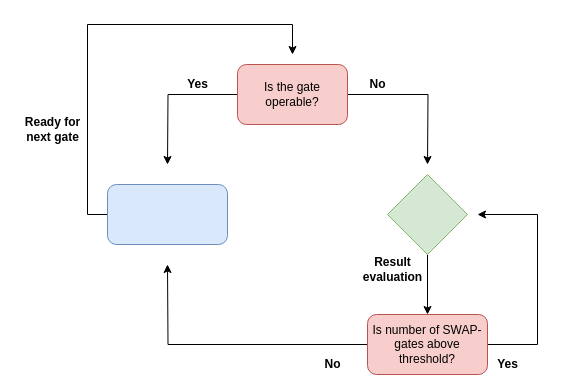
This 563x392 diagram has some shape labels left out. Each missing label, with the centre of its shape:
"MCTS" goes at point 427,214.
"Place gate(s) in the circuit" goes at point 167,214.
